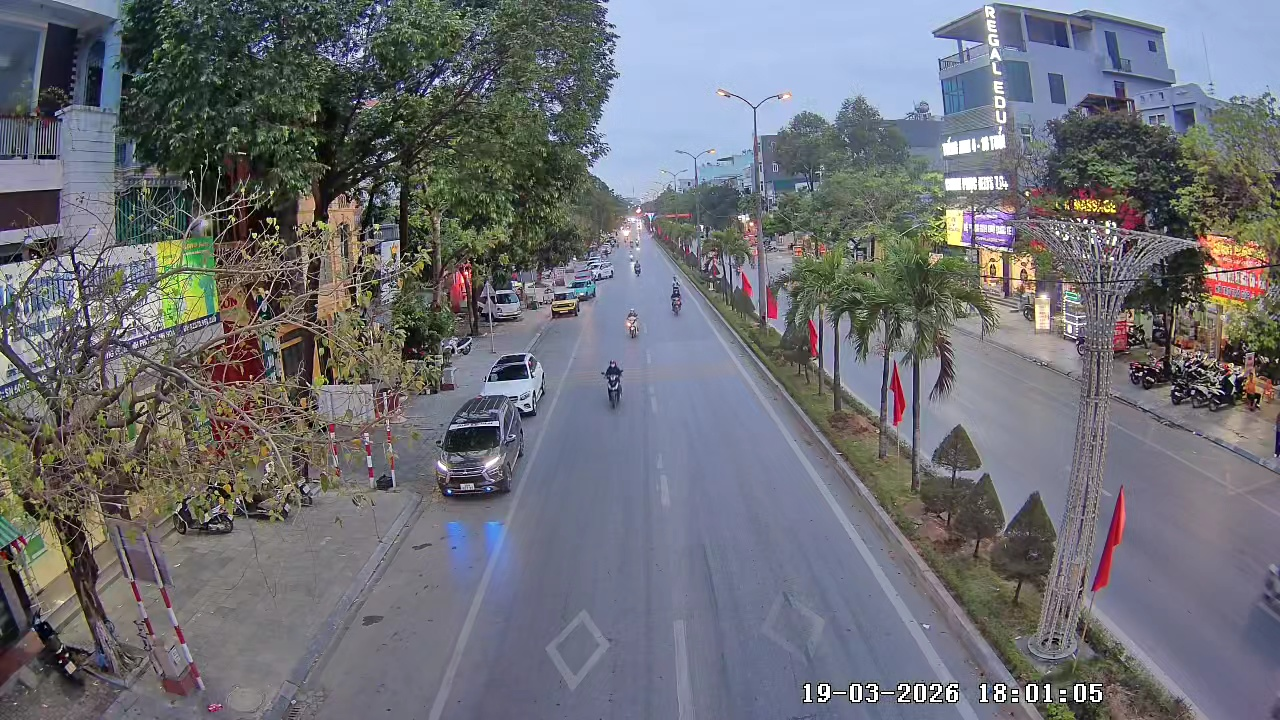car: (433, 396, 527, 498), (482, 351, 546, 417), (550, 286, 581, 318)
motorbike: (599, 357, 626, 412), (624, 306, 643, 340), (668, 283, 683, 317)
